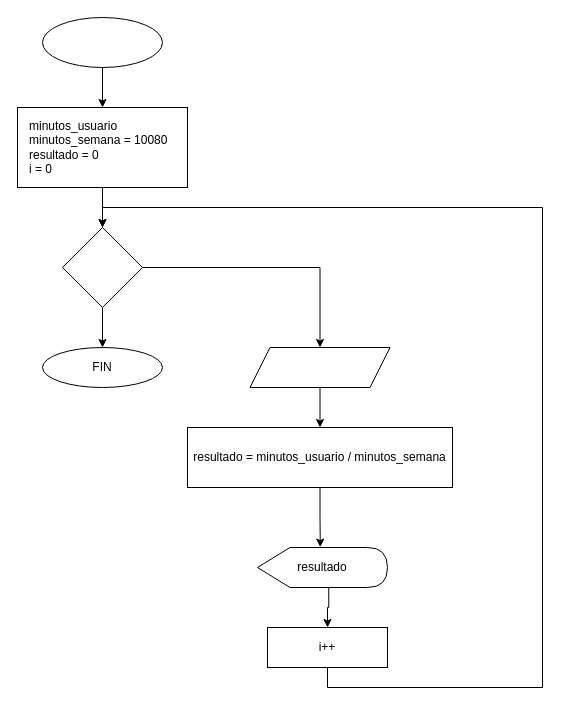
The diagram is 568 pixels wide and 713 high, and some of its shapes have lost their labels. Here are the shapes that lost their labels. From the top down, the centre of each, then its label:
At (102,42): "INICIO".
At (102,267): "i < 15".
At (319,367): "minutos_usuario".
